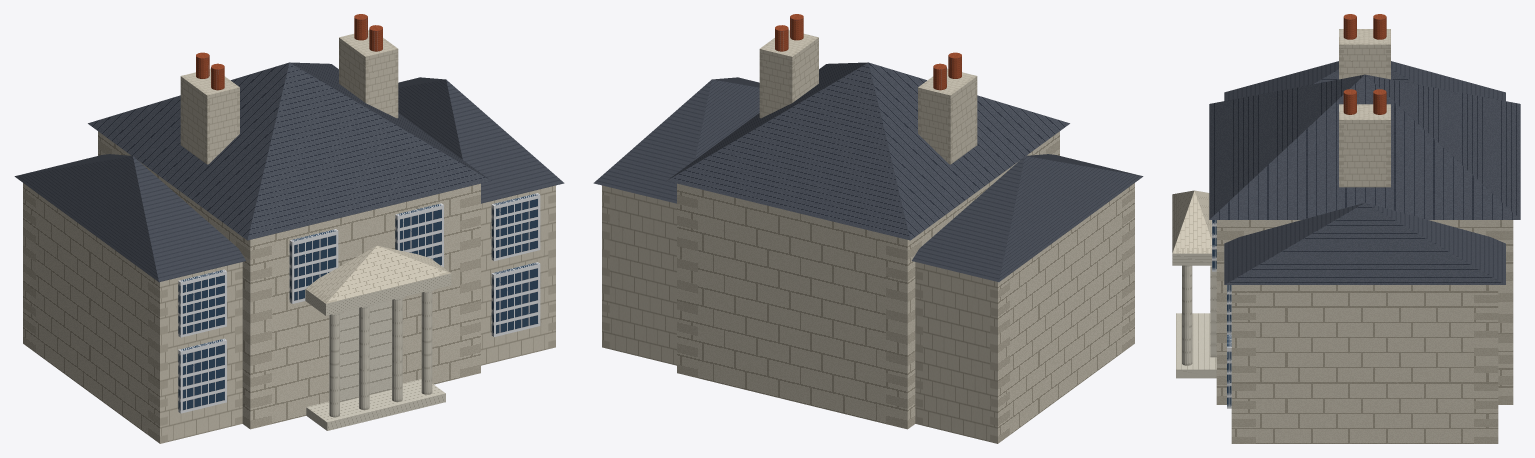
File: house_large_02_manor_estate.glb
The picture shows the model from 3 angles, left to right: view 1: azimuth 30°, elevation 25°; view 2: azimuth 150°, elevation 25°; view 3: azimuth 270°, elevation 25°; orthographic projection. The views are drawn at different scales.
Visible parts, largest first — view 1: House_Large_02_Manor_Estate; view 2: House_Large_02_Manor_Estate; view 3: House_Large_02_Manor_Estate.
Part boxes in pixels (box(x1,y1,x2,y2)): House_Large_02_Manor_Estate: box(14, 14, 564, 443); House_Large_02_Manor_Estate: box(593, 14, 1143, 443); House_Large_02_Manor_Estate: box(1172, 14, 1520, 443).
Bounding box in the file's own units: 12.3 × 8.8 × 9.4.
Materials: 1 (1 with a texture image).
